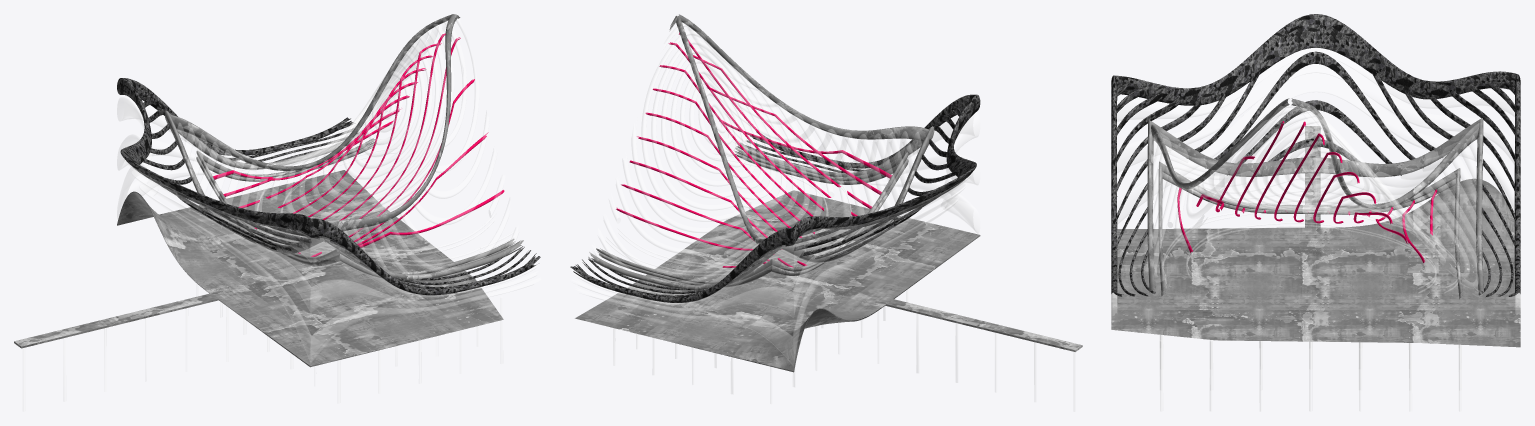
The model's file is as-opt.glb.
3 views of the same model, side by side, from view 1: azimuth 30°, elevation 25°; view 2: azimuth 150°, elevation 25°; view 3: azimuth 270°, elevation 25° (orthographic). The views are drawn at different scales.
Parts seen in each view (by area): view 1: Mesh_1.001, Mesh_0.001, Mesh_3.001, Mesh_4.001; view 2: Mesh_1.001, Mesh_0.001, Mesh_3.001, Mesh_4.001; view 3: Mesh_1.001, Mesh_0.001, Mesh_3.001, Mesh_4.001.
Boxes of the visible parts, left/top/right/bottom form: Mesh_1.001: left=14, top=14, right=523, bottom=367; Mesh_0.001: left=23, top=18, right=540, bottom=411; Mesh_3.001: left=117, top=78, right=540, bottom=295; Mesh_4.001: left=213, top=33, right=504, bottom=256; Mesh_1.001: left=575, top=14, right=1082, bottom=372; Mesh_0.001: left=571, top=15, right=1075, bottom=411; Mesh_3.001: left=570, top=94, right=980, bottom=302; Mesh_4.001: left=616, top=33, right=891, bottom=267; Mesh_1.001: left=1111, top=98, right=1520, bottom=347; Mesh_0.001: left=1111, top=48, right=1520, bottom=411; Mesh_3.001: left=1111, top=14, right=1520, bottom=297; Mesh_4.001: left=1177, top=121, right=1437, bottom=262.
Bounding box in the file's own units: 54.23 × 36.37 × 42.21.
Materials: 4 (2 with a texture image).
